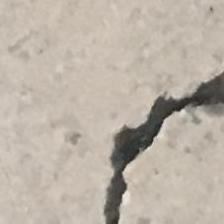Crack: (74, 61, 224, 224)
